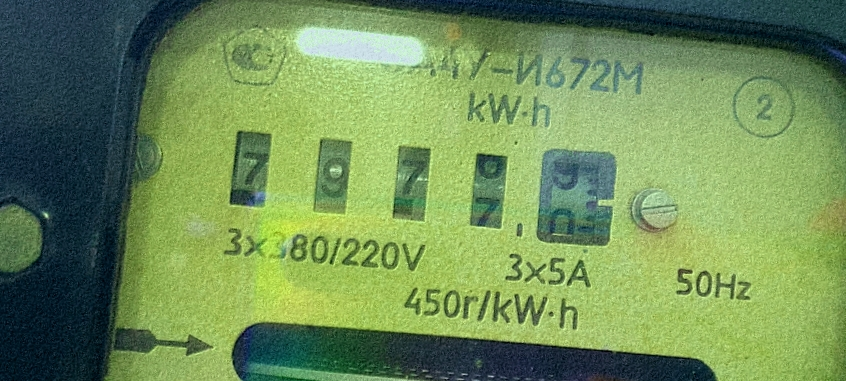0: (544, 201, 580, 242)
7: (396, 154, 429, 199), (237, 147, 270, 191), (470, 193, 502, 230)
9: (316, 153, 353, 200), (549, 154, 583, 192)
screen: (207, 106, 643, 270)
